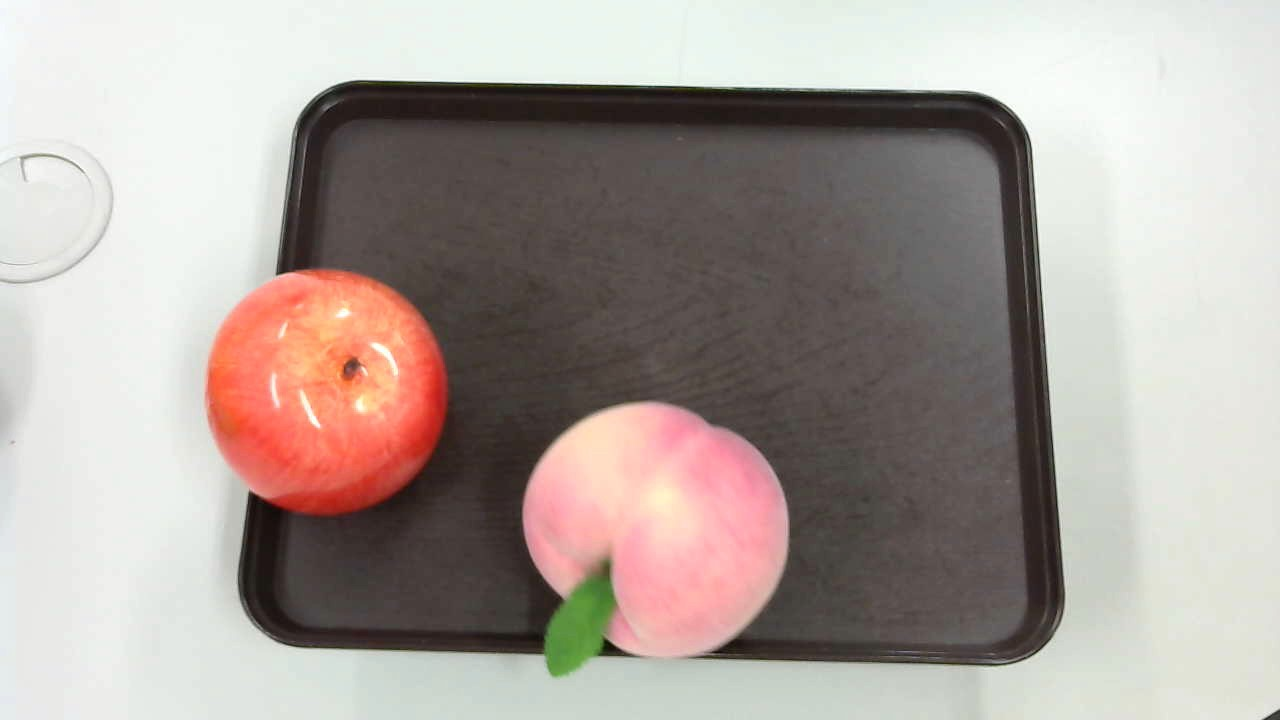peach: (514, 396, 799, 676)
red apple: (201, 269, 448, 519)
